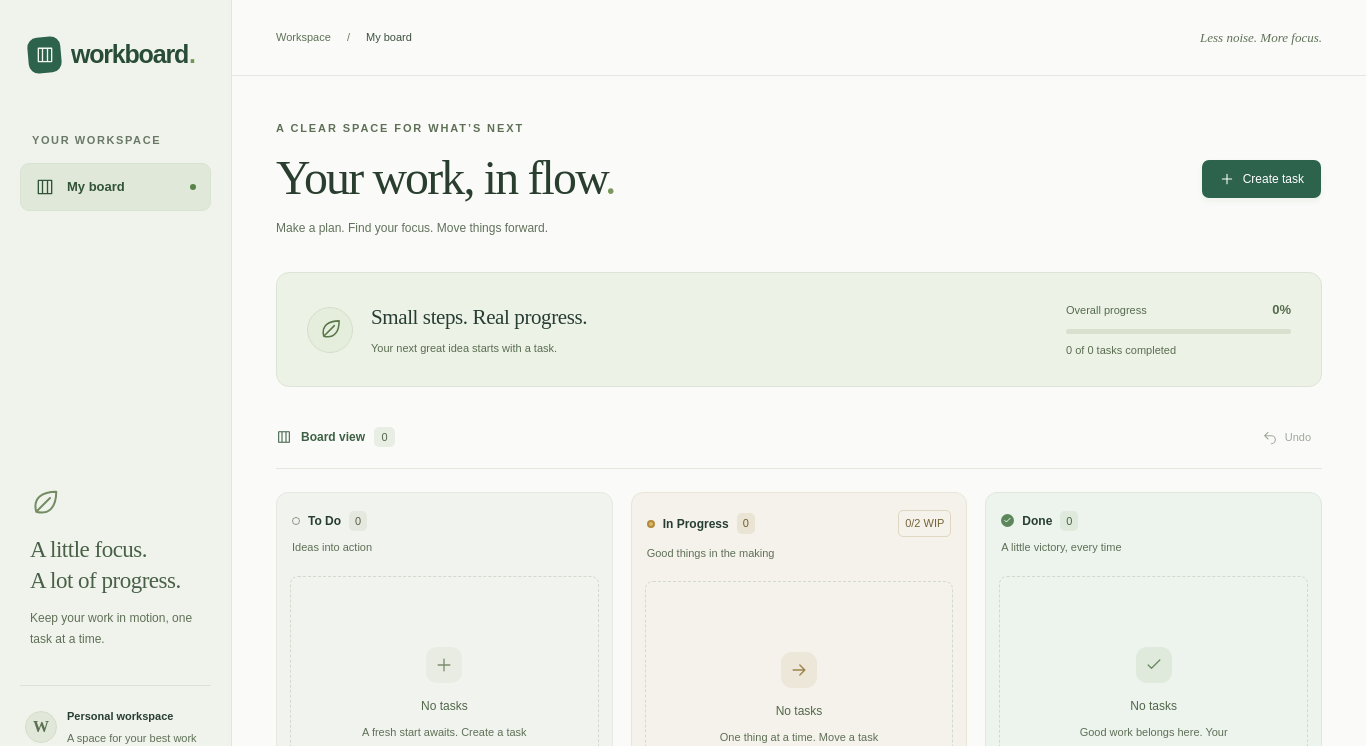
Test case: CreateTaskDialog › keeps the title and adds both cards when the title is repeated
This screenshot has width=1366, height=746.
Expected: the heading "To Do" is shown, top-left (308, 512), bottom-right (341, 530)
Click the button "Create task" at (1261, 179), box top-left (1201, 159), bottom-right (1322, 199)
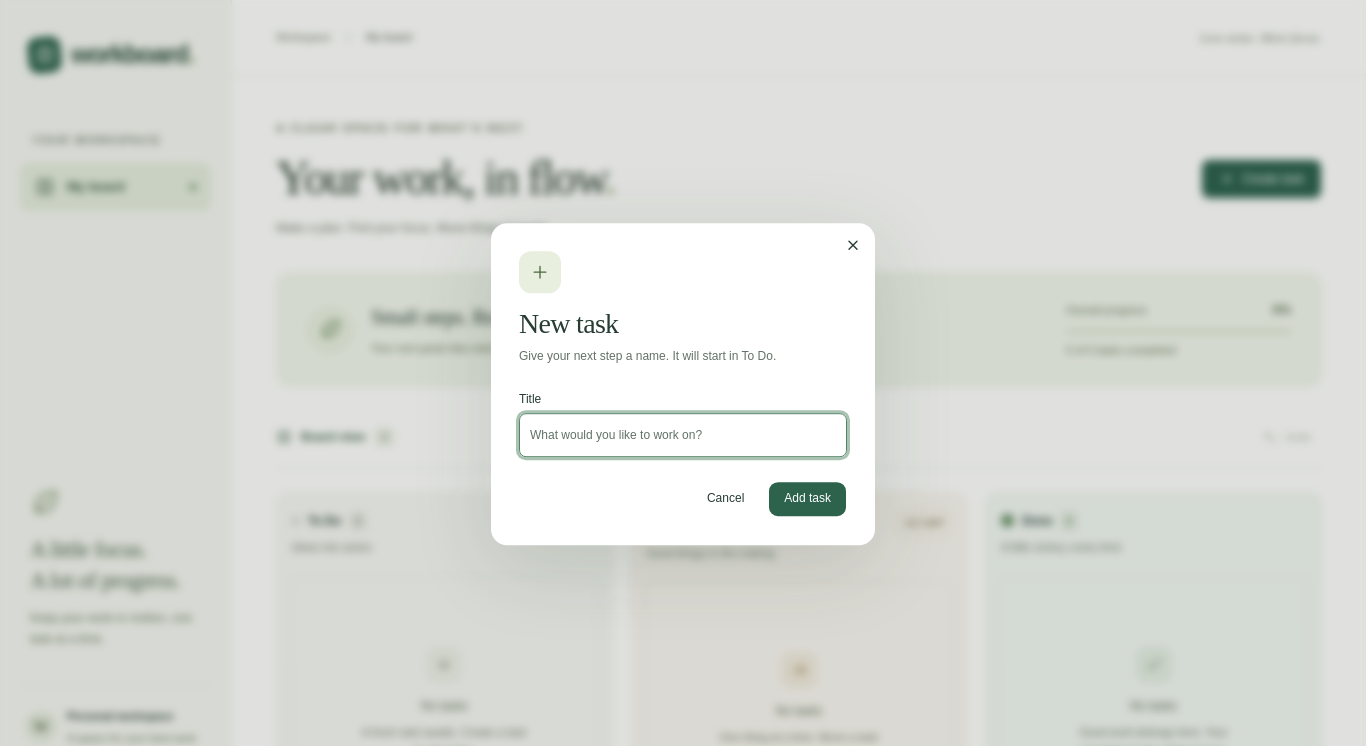
Type "Prepare the report" into the field labelled "Title" at (683, 435), box top-left (519, 413), bottom-right (847, 457)
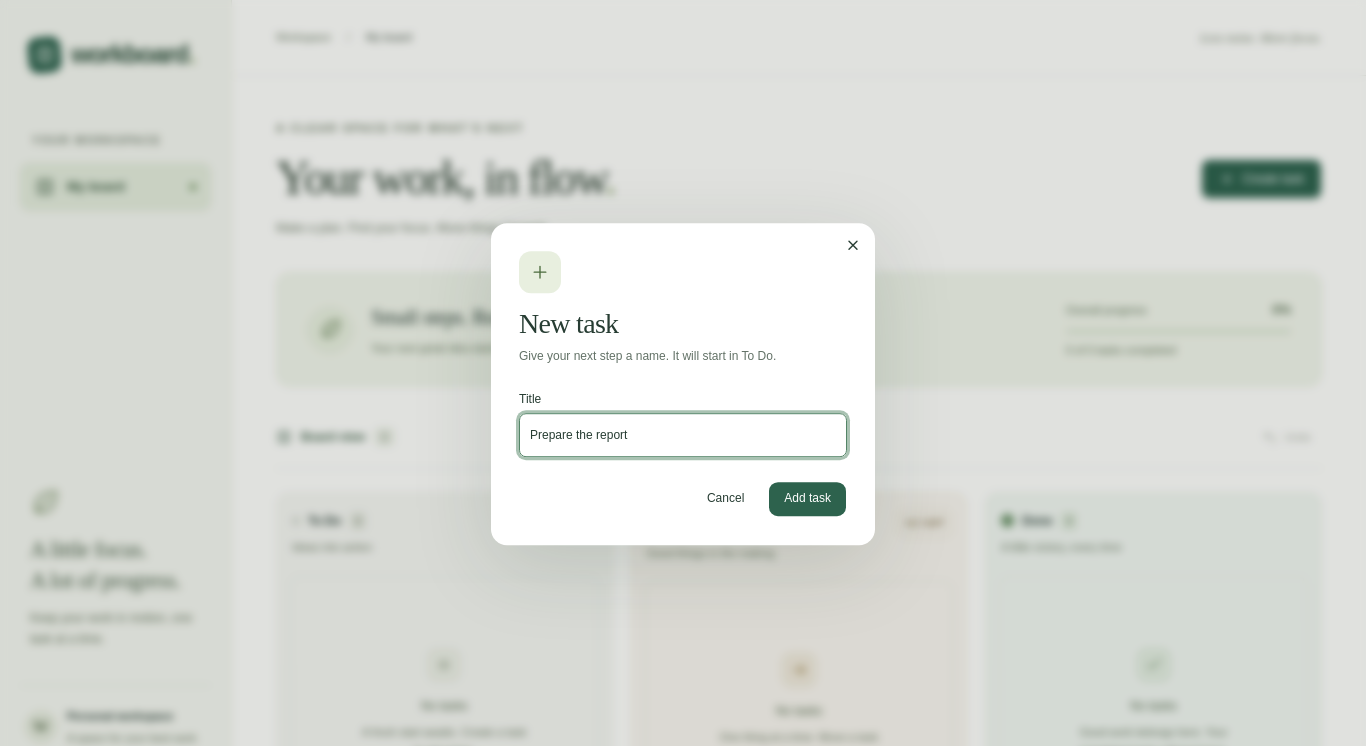
Click the button "Add task" at (808, 499), box top-left (768, 481), bottom-right (847, 517)
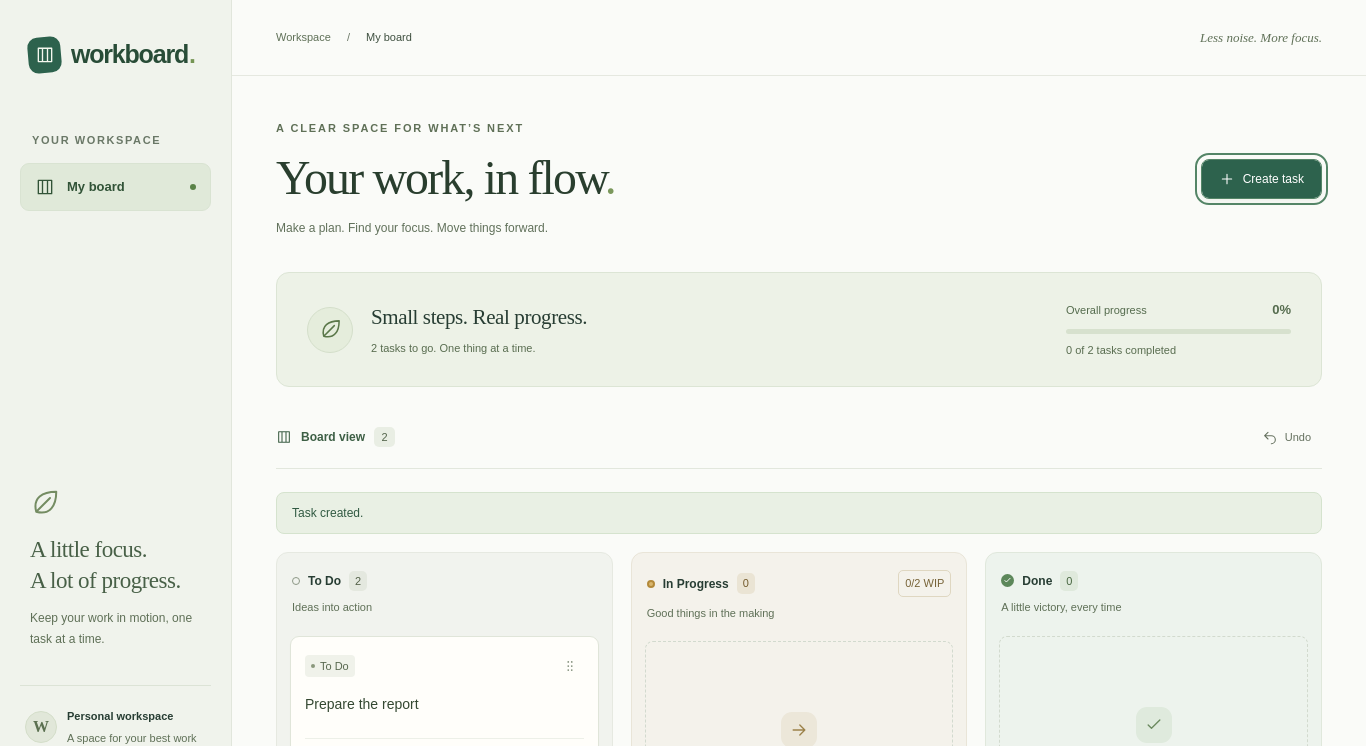
Result: the number of headings "Prepare the report" is 2
